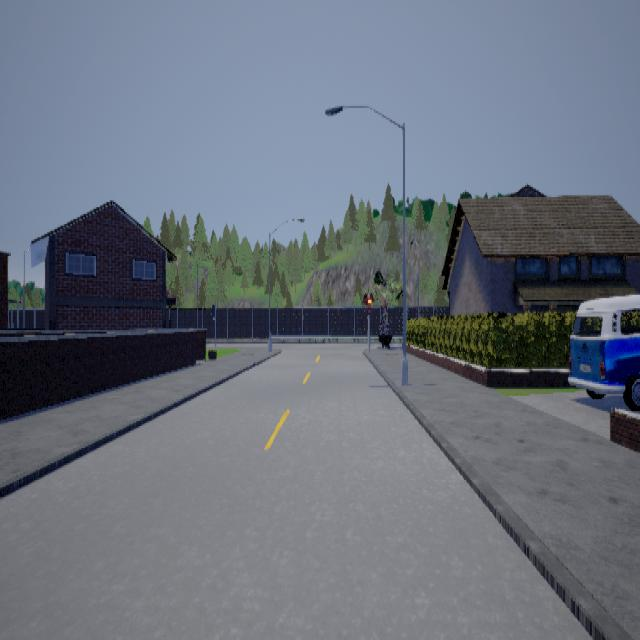vehicle: (567, 293, 639, 409)
